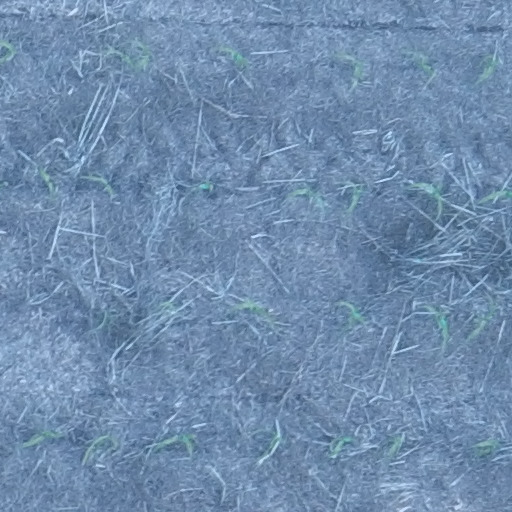planta: (408, 181, 443, 220), (81, 434, 120, 466), (468, 303, 496, 341), (231, 299, 274, 323), (424, 305, 449, 344), (152, 434, 194, 456), (119, 44, 150, 71), (339, 300, 365, 331), (21, 429, 60, 448), (257, 431, 281, 458), (336, 54, 363, 77), (218, 46, 247, 65), (286, 187, 322, 202), (477, 57, 498, 81), (86, 176, 114, 193), (331, 436, 353, 456), (346, 186, 364, 210), (38, 168, 55, 193), (473, 440, 499, 455), (418, 55, 433, 75)
